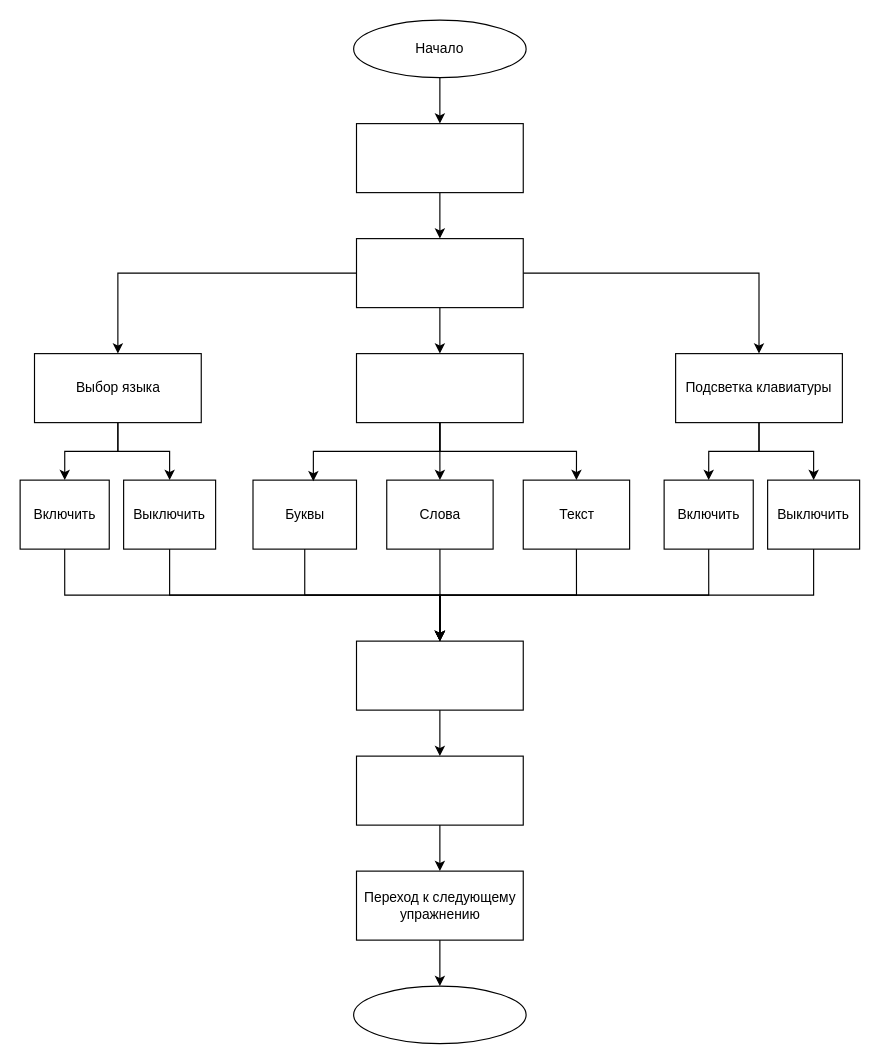
The diagram is 880 pixels wide and 1064 high, and some of its shapes have lost their labels. The centre of each missing label's shape, as x and y in pixels:
"Выбор пользователем необходимых настроек" belongs at pixel 439 272.
"Выбор упражнения" belongs at pixel 439 387.
"Главное меню приложения" belongs at pixel 439 157.
"Завершение упражнения по его выполнению или истечению времени" belongs at pixel 439 790.
"Конец" belongs at pixel 439 1014.
"Печать по выбранному упражнению" belongs at pixel 439 675.
